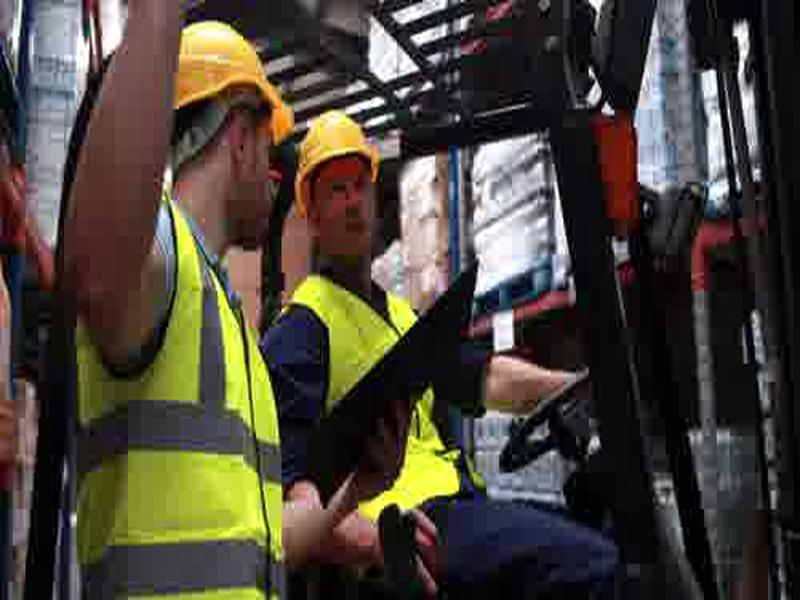hard-hat: (130, 20, 296, 152), (293, 108, 381, 218)
